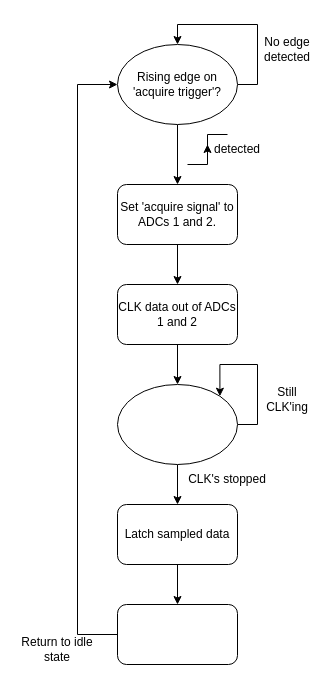
Some shapes in this 334 by 682 pixel diagram are drawn without their labels. The shapes that lost their labels are listed below. From the top down, each one's centre as x and y in pixels, then its label:
At pixel 177 424: "Is CLK done?".
At pixel 177 634: "Set 'data ready' flag".
